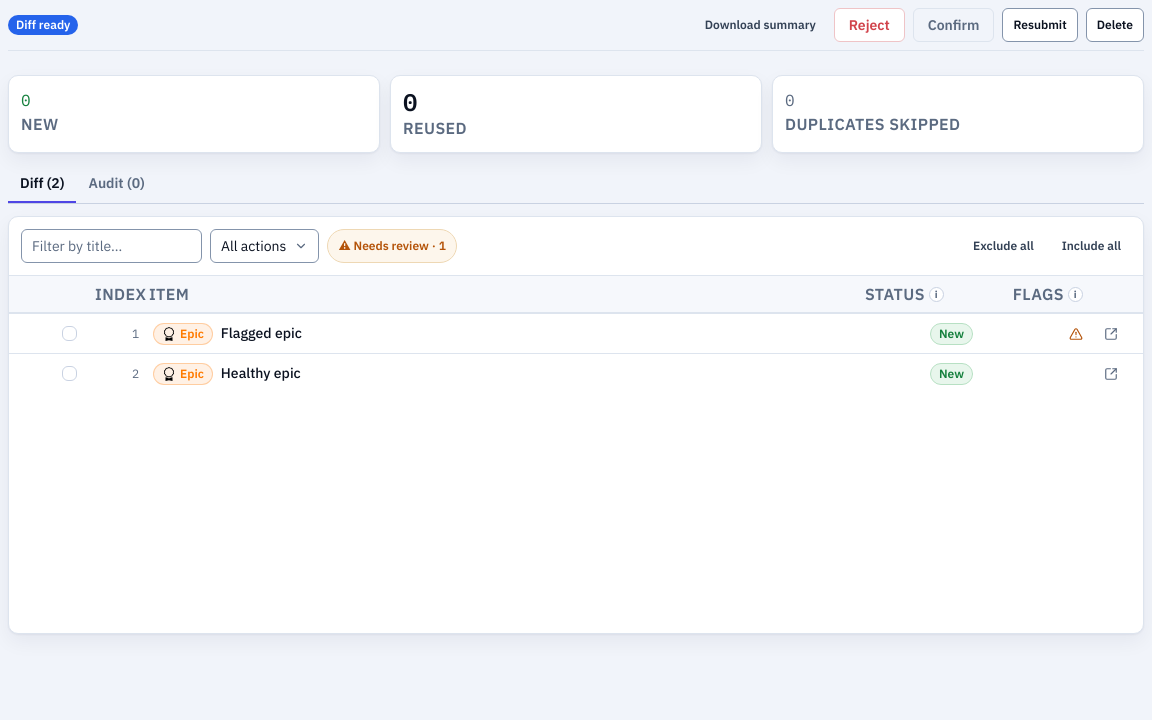
JobDetail › shows a "Needs review" filter chip with the flagged count, and isolates flagged rows on click
Check: the text "Flagged epic" is shown, box [221,324,302,342]
Click the button "⚠ Needs review · 1".
click(392, 246)  # box [327,229,457,263]
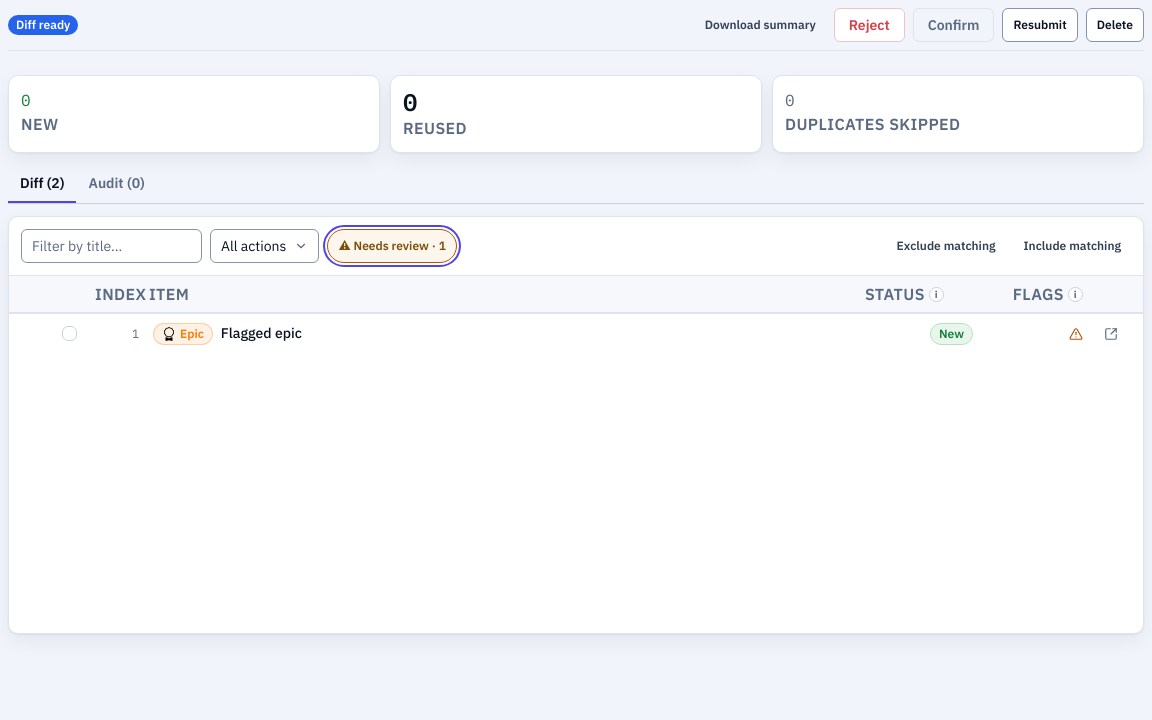
Check: the text "Flagged epic" is shown, box [221,324,302,342]
Check: the text "Healthy epic" is gone
